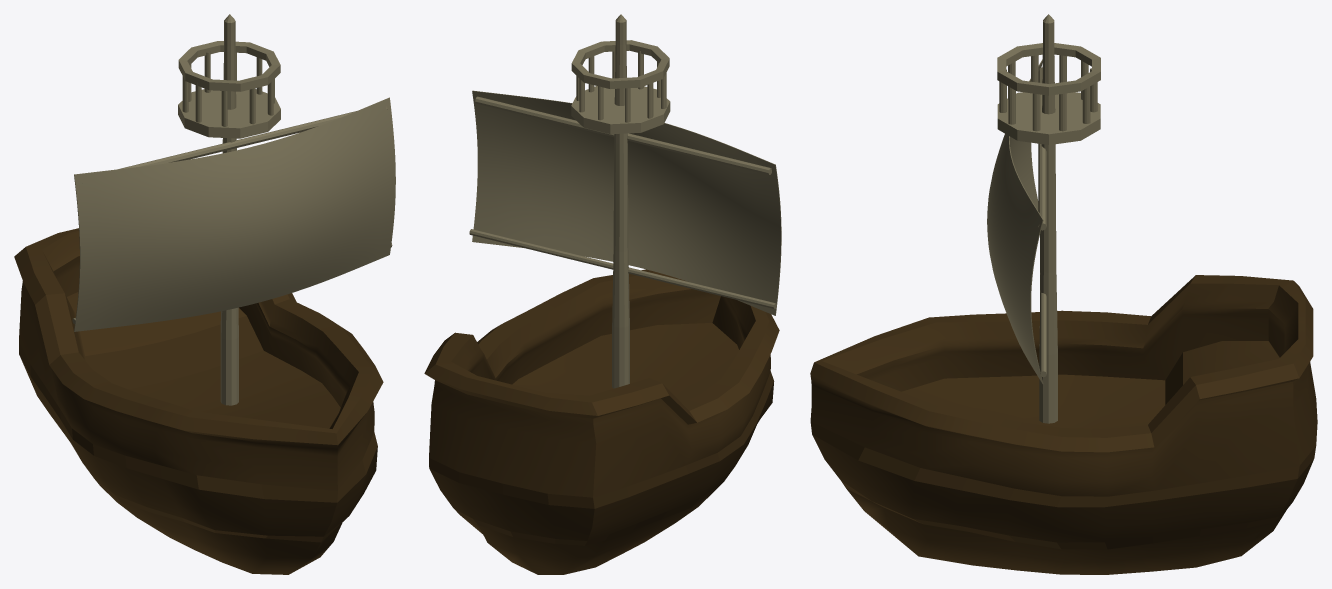
The model's file is EnemyTank.fbx.
3 renders of one model, left to right at view 1: azimuth 30°, elevation 25°; view 2: azimuth 150°, elevation 25°; view 3: azimuth 270°, elevation 25°, orthographic. The views are drawn at different scales.
Visible parts, largest first — view 1: pCube10, pCylinder101; view 2: pCube10, pCylinder101; view 3: pCube10, pCylinder101.
Boxes of the visible parts, bbox=[...] form: pCube10: bbox=[14, 228, 383, 574]; pCylinder101: bbox=[72, 14, 395, 405]; pCube10: bbox=[424, 269, 779, 574]; pCylinder101: bbox=[469, 14, 781, 388]; pCube10: bbox=[810, 275, 1317, 574]; pCylinder101: bbox=[987, 14, 1100, 423].
Bounding box in the file's own units: 4.55 × 7.25 × 6.03.
